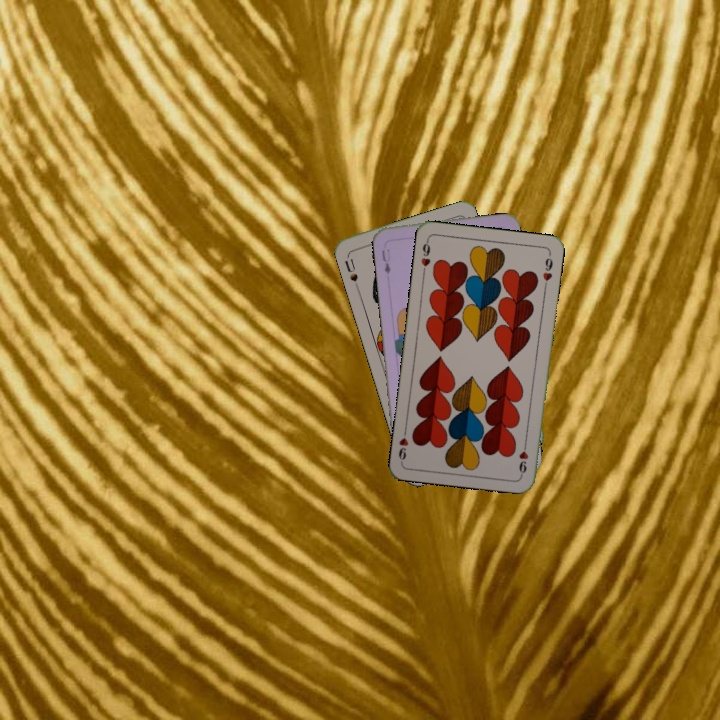EU: (378, 245, 393, 277)
H9: (515, 437, 531, 478), (417, 236, 433, 276)
SU: (341, 251, 361, 291)
